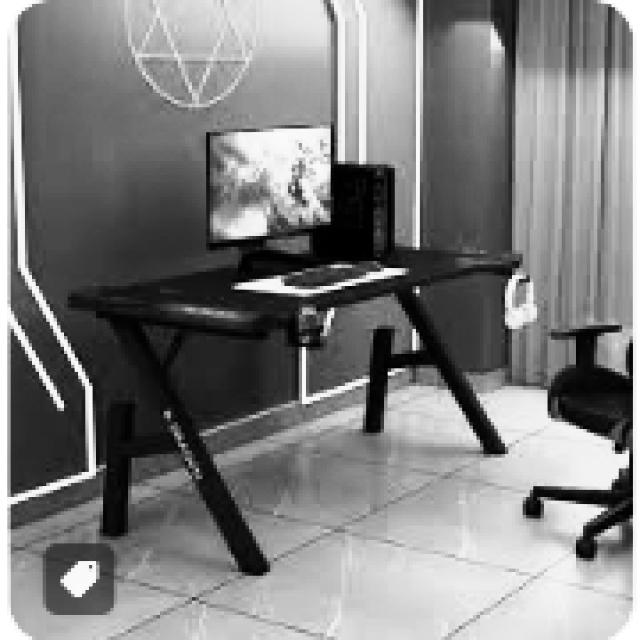table: (64, 240, 526, 572)
